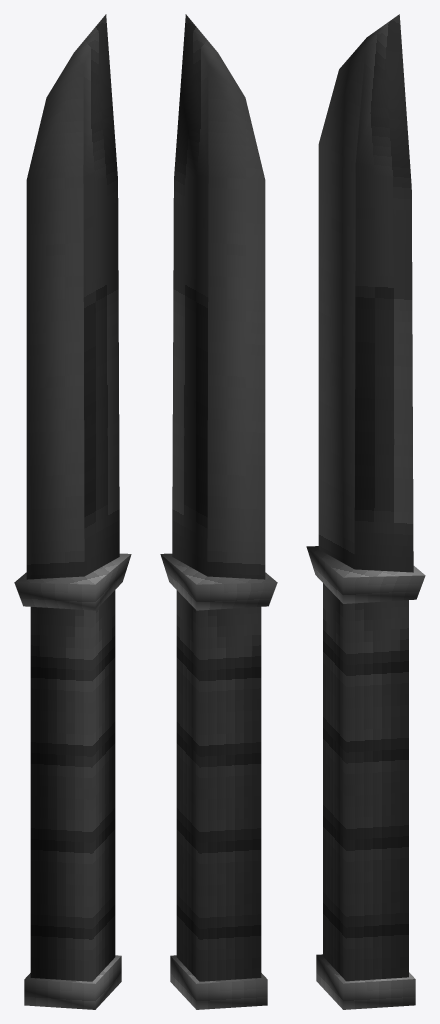
The model's file is combatknife1.glb.
3 renders of one model, left to right at view 1: azimuth 30°, elevation 25°; view 2: azimuth 150°, elevation 25°; view 3: azimuth 330°, elevation 25°, orthographic.
Parts seen in each view (by area): view 1: combatknife1; view 2: combatknife1; view 3: combatknife1.
Boxes of the visible parts, left/top/right/bottom form: combatknife1: left=14, top=14, right=131, bottom=1009; combatknife1: left=160, top=14, right=277, bottom=1009; combatknife1: left=306, top=14, right=425, bottom=1009.
Size of the model in its own units: 0.0544 by 0.4303 by 0.036.
Materials: 1 (1 with a texture image).
